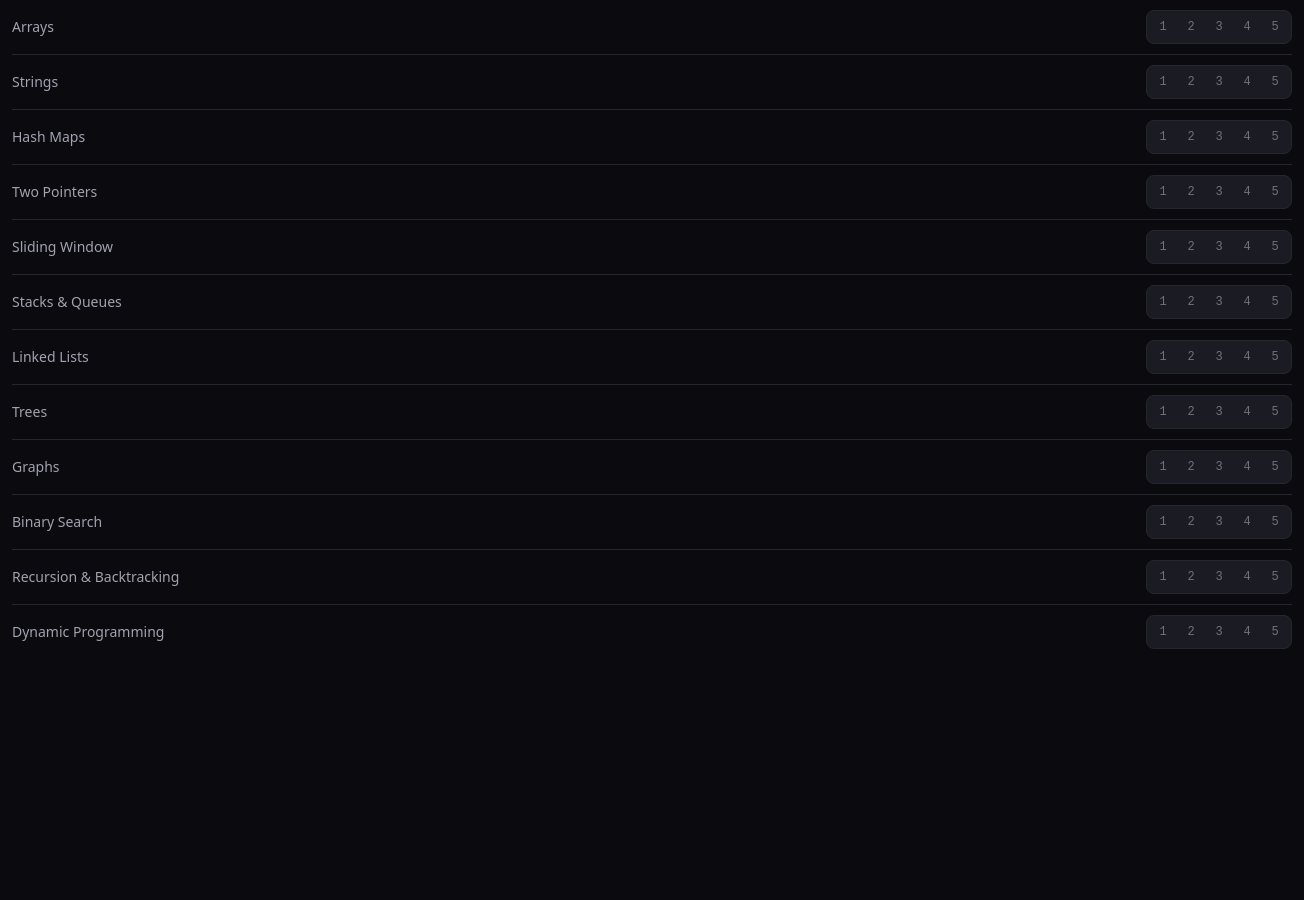
ConfidenceTracker › shows an error when saving fails
Expected: the text "Graphs" is shown, [12,457,60,477]
Click the radio button named "Rate Graphs as 3 of 5": (1219,467) [1205,453,1233,481]
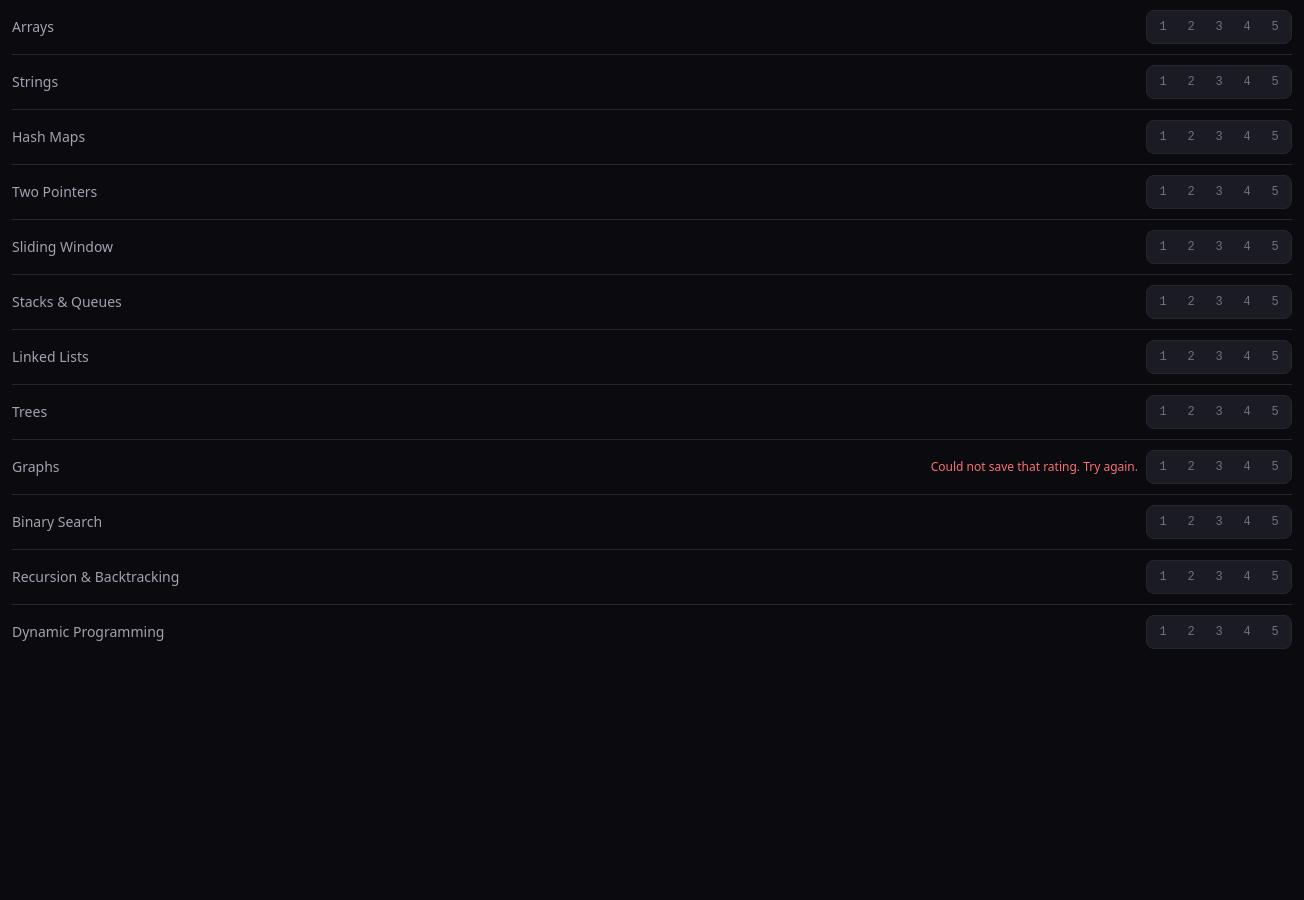
Expected: the text "Could not save that rating. Try again." is shown, [931,459,1138,475]
